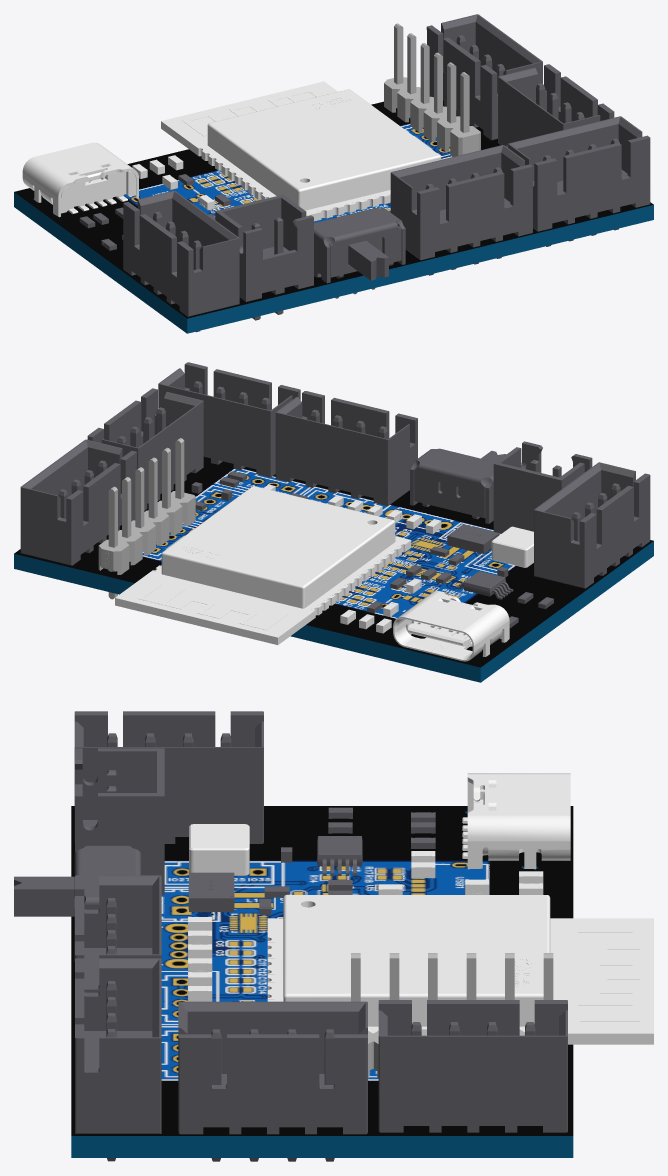
Rendered from board.glb.
3 renders of one model, top to bottom at view 1: azimuth 30°, elevation 25°; view 2: azimuth 150°, elevation 25°; view 3: azimuth 270°, elevation 25°, orthographic. The views are drawn at different scales.
Parts seen in each view (by area): view 1: CN1-mesh (×5), U4-mesh, Board-mesh, CN2-mesh, H1-mesh, USB1-mesh, SW1-mesh (×2); view 2: CN1-mesh (×5), U4-mesh, Board-mesh, H1-mesh, USB1-mesh, CN2-mesh, SW1-mesh, L1-mesh, U2-mesh, U3-mesh; view 3: CN1-mesh (×5), Board-mesh, U4-mesh, USB1-mesh, CN2-mesh, SW1-mesh (×2), H1-mesh, L1-mesh, U2-mesh, U3-mesh.
Part boxes in pixels (bbox=[...]): CN1-mesh (×5): bbox=[123, 14, 650, 332]; U4-mesh: bbox=[161, 81, 441, 221]; Board-mesh: bbox=[14, 95, 653, 333]; CN2-mesh: bbox=[215, 194, 313, 320]; H1-mesh: bbox=[384, 23, 480, 156]; USB1-mesh: bbox=[22, 142, 138, 217]; SW1-mesh (×2): bbox=[314, 208, 405, 283]; CN1-mesh (×5): bbox=[20, 362, 650, 588]; U4-mesh: bbox=[115, 486, 411, 644]; Board-mesh: bbox=[14, 456, 653, 682]; H1-mesh: bbox=[98, 438, 195, 599]; USB1-mesh: bbox=[393, 591, 509, 661]; CN2-mesh: bbox=[493, 441, 592, 533]; SW1-mesh: bbox=[410, 448, 495, 523]; L1-mesh: bbox=[491, 526, 533, 567]; U2-mesh: bbox=[447, 524, 499, 553]; U3-mesh: bbox=[456, 571, 513, 599]; CN1-mesh (×5): bbox=[74, 711, 567, 1161]; Board-mesh: bbox=[71, 806, 573, 1157]; U4-mesh: bbox=[267, 894, 653, 1044]; USB1-mesh: bbox=[462, 773, 570, 869]; CN2-mesh: bbox=[75, 748, 164, 894]; SW1-mesh (×2): bbox=[14, 845, 141, 960]; H1-mesh: bbox=[351, 953, 553, 1078]; L1-mesh: bbox=[189, 824, 249, 875]; U2-mesh: bbox=[188, 872, 234, 912]; U3-mesh: bbox=[317, 836, 362, 875].
Bounding box in the file's own units: 0.0515 × 0.0119 × 0.0422.
Materials: 6 (2 with a texture image).
